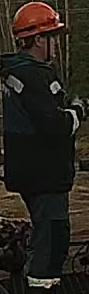gloves: (71, 94, 89, 119)
helmet: (10, 1, 65, 40)
vest: (0, 54, 75, 193)
